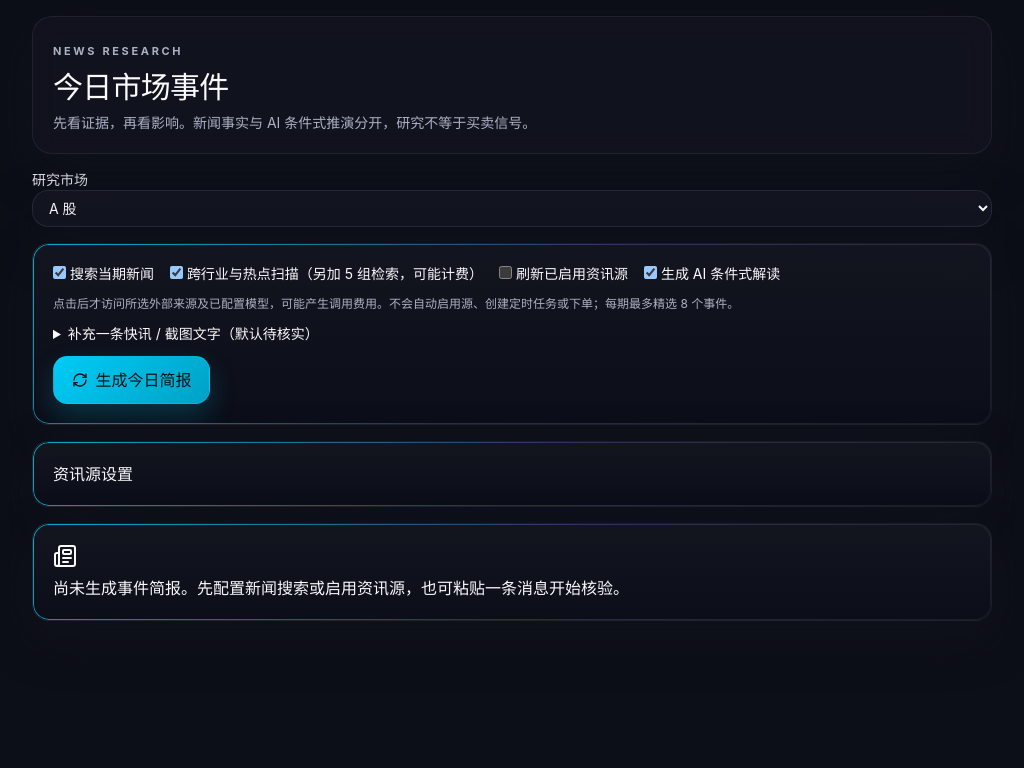
Test case: MarketEventsPage › separates cross-sector evidence from holdings and sends the scan choice
This screenshot has width=1024, height=768.
Expected: the text "尚未生成事件简报。先配置新闻搜索或启用资讯源，也可粘贴一条消息开始核验。" is shown, x1=53 y1=578 x2=629 y2=598
What coordinates should you click on to do the following:
click the button "生成今日简报"
I would click on:
 (132, 380)
Its box is x1=53 y1=356 x2=210 y2=404.
(page scrolled)
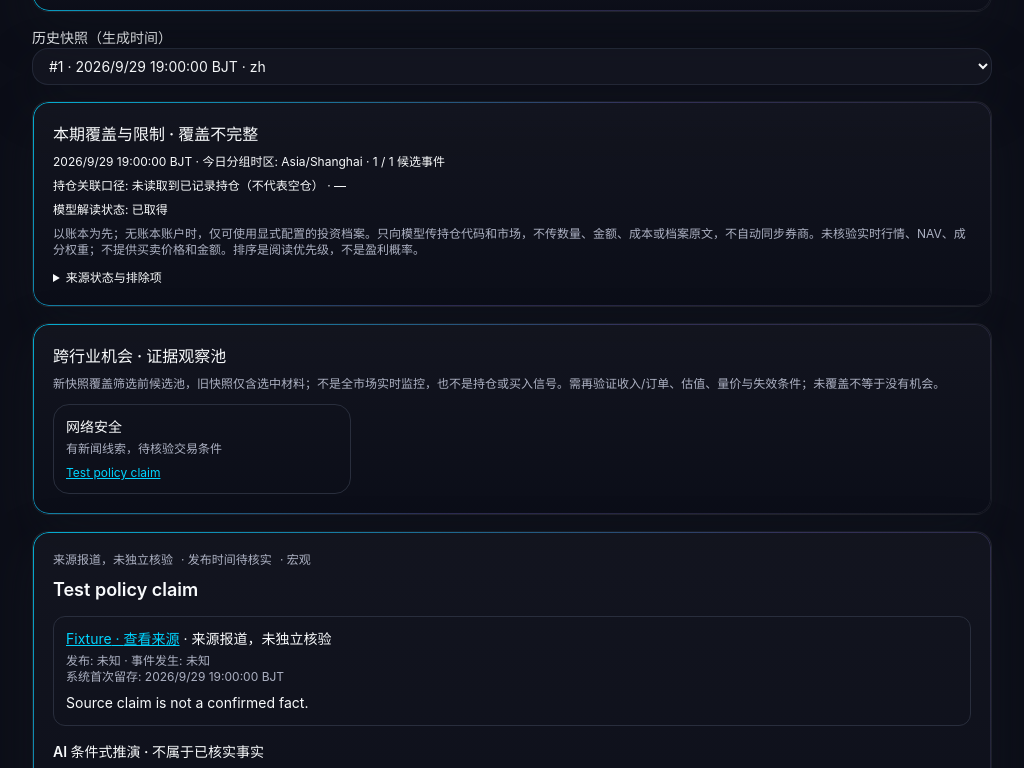
Now the heading "跨行业机会 · 证据观察池" is shown, box x1=53 y1=346 x2=226 y2=366
Now the heading "网络安全" is shown, box x1=66 y1=418 x2=122 y2=435
Now the text "未覆盖不等于没有机会" is shown, box x1=53 y1=376 x2=945 y2=391
